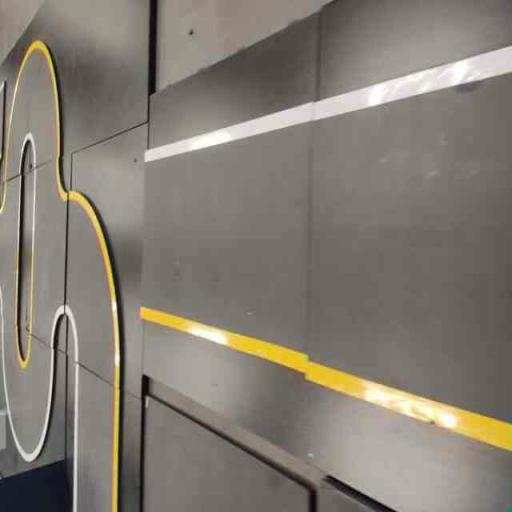straight: (142, 9, 511, 473)
